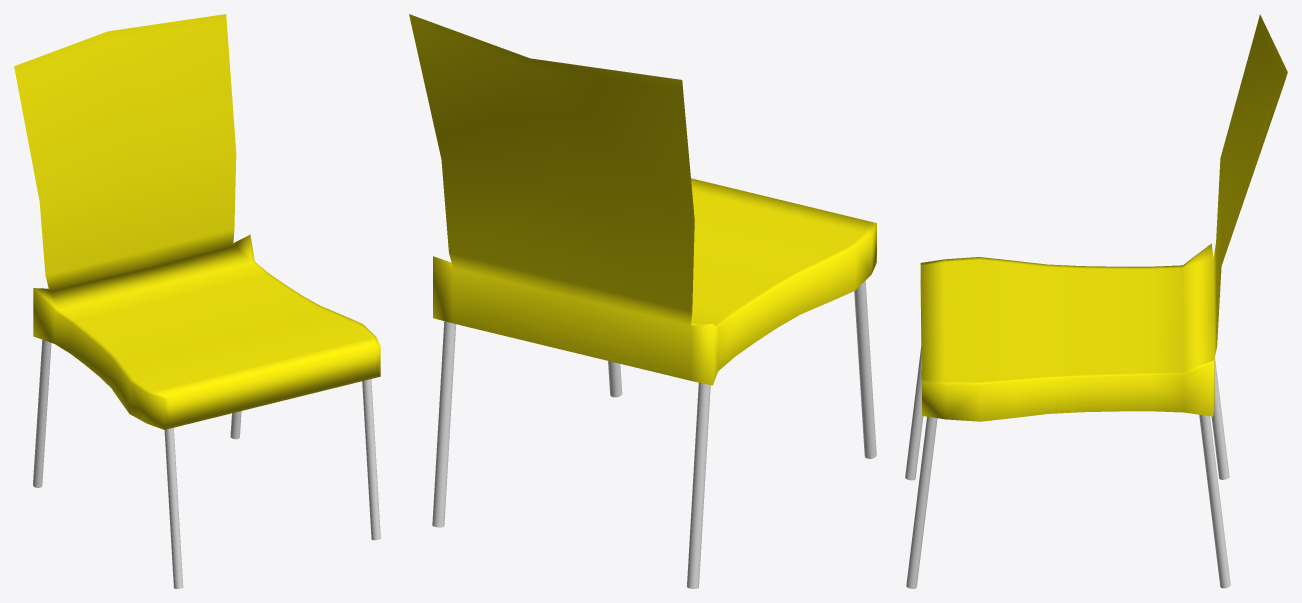
File: YellowChair.glb
The picture shows the model from 3 angles, left to right: view 1: azimuth 30°, elevation 25°; view 2: azimuth 150°, elevation 25°; view 3: azimuth 270°, elevation 25°; orthographic projection. The views are drawn at different scales.
Visible parts, largest first — view 1: chair; view 2: chair; view 3: chair.
Part boxes in pixels (x1,y1,x2,y2): chair: [14, 14, 380, 588]; chair: [409, 14, 876, 588]; chair: [905, 14, 1287, 588].
Size of the model in its own units: 1.72 by 2.87 by 2.17.
